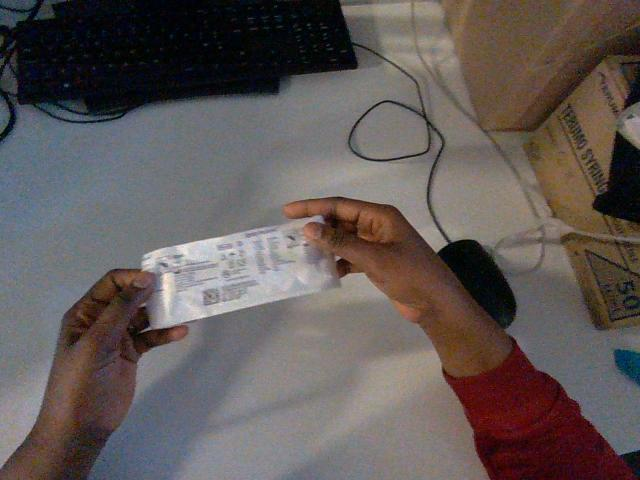syringe: (142, 217, 339, 328), (617, 103, 639, 148)
